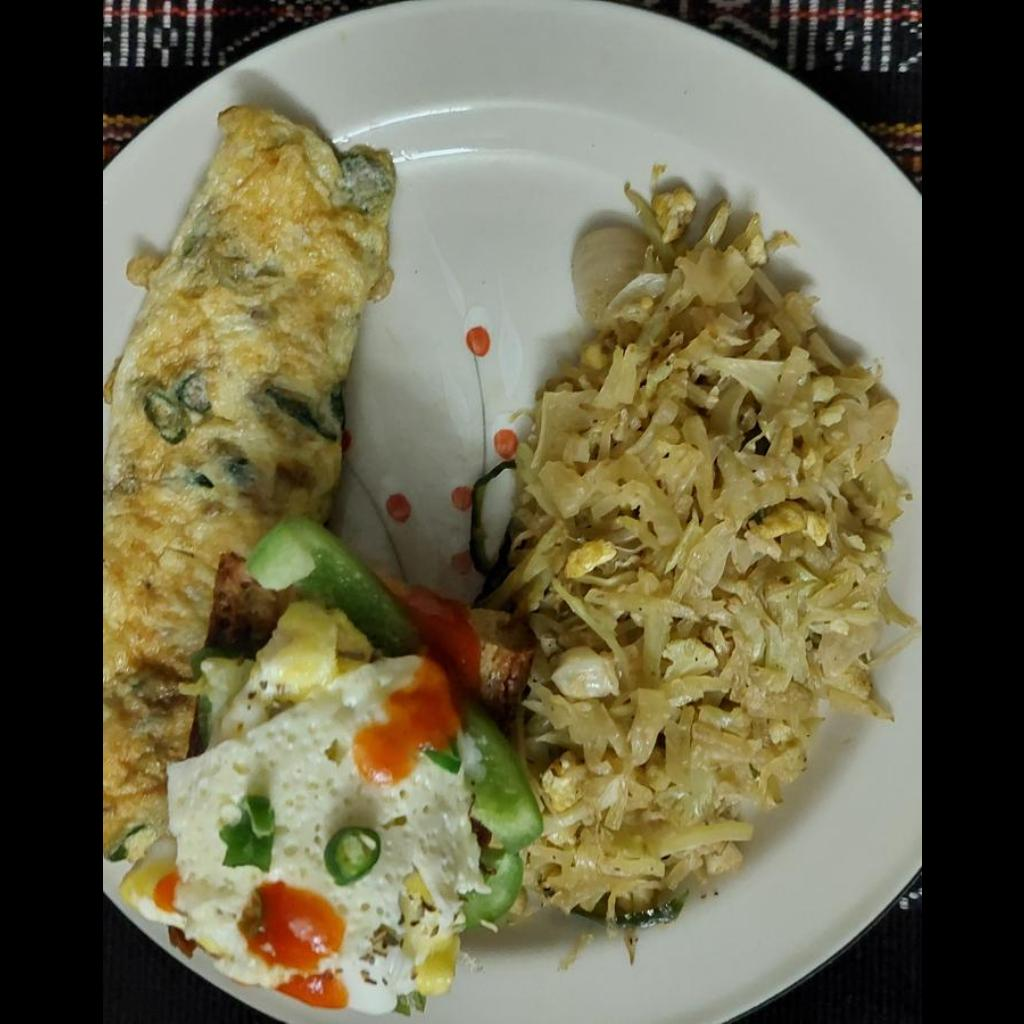egg-poached: (104, 109, 387, 802)
vaji: (497, 187, 902, 927)
vegetable: (127, 526, 528, 1018)
